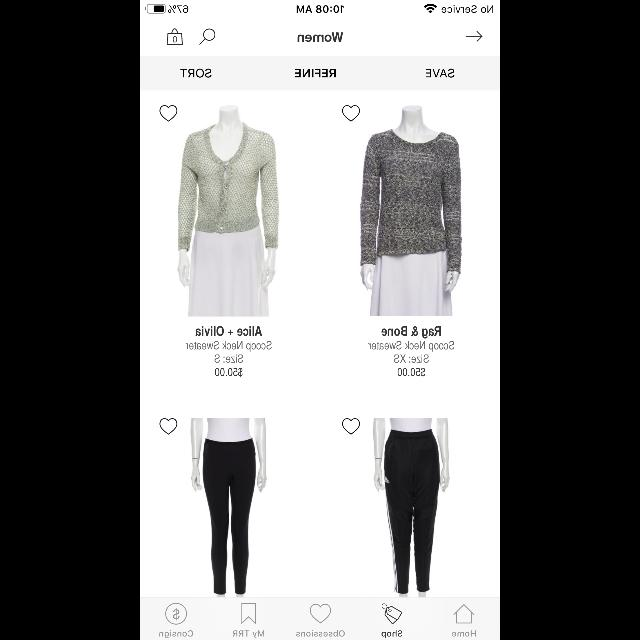icon: (166, 604, 187, 624), (382, 604, 402, 624), (310, 604, 330, 622), (454, 604, 474, 622), (242, 602, 256, 624), (342, 419, 360, 435), (342, 105, 360, 121), (160, 419, 177, 435), (160, 105, 177, 121), (199, 29, 215, 45), (466, 31, 482, 41)
image: (360, 106, 462, 316), (178, 106, 278, 316), (191, 419, 267, 597), (373, 419, 449, 597)
text: (186, 342, 272, 352), (368, 342, 454, 352), (382, 326, 441, 338), (196, 326, 262, 336), (298, 32, 342, 42), (180, 68, 212, 78), (296, 69, 336, 77), (296, 630, 344, 636), (426, 68, 454, 78), (394, 355, 428, 363), (159, 630, 193, 638), (215, 368, 242, 378), (398, 368, 424, 378), (167, 28, 183, 44), (233, 630, 264, 638), (215, 355, 243, 363), (382, 630, 402, 638), (452, 630, 476, 636)
uppertaskbar: (140, 0, 500, 14)
